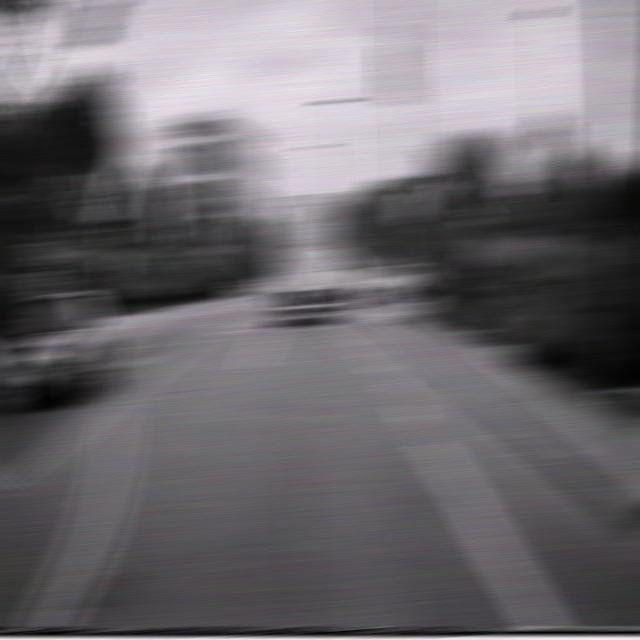stop: (394, 190, 427, 224)
